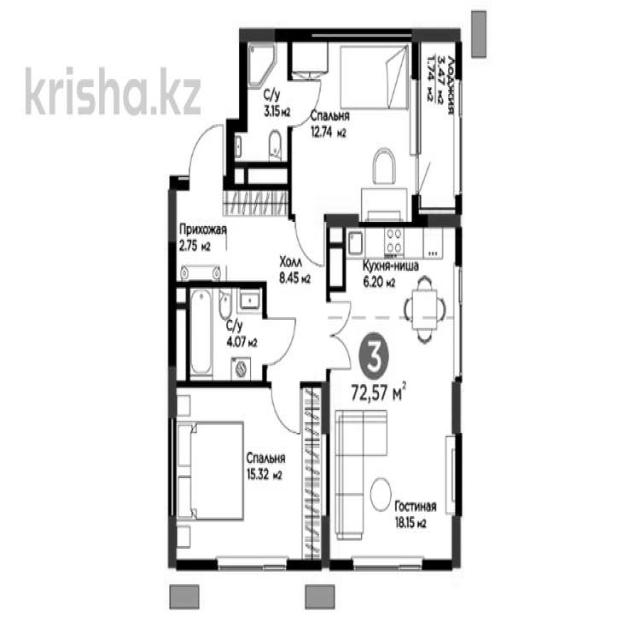balcony: (418, 36, 460, 218)
bathroom: (189, 280, 264, 384), (242, 34, 290, 164)
hallway: (265, 215, 325, 382), (173, 186, 264, 276)
living_room: (174, 383, 321, 564), (291, 34, 413, 216)
studio: (326, 222, 458, 567)
